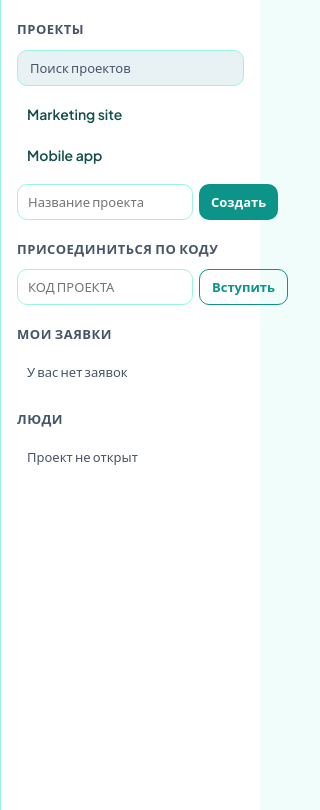
Test case: Sidebar › filters the project list by search query
Check: the link "Marketing site" is shown, box [27,104,122,122]
Type "mobile" into the search field labelled "Поиск проектов" at (130, 68), box [17,50,244,86]
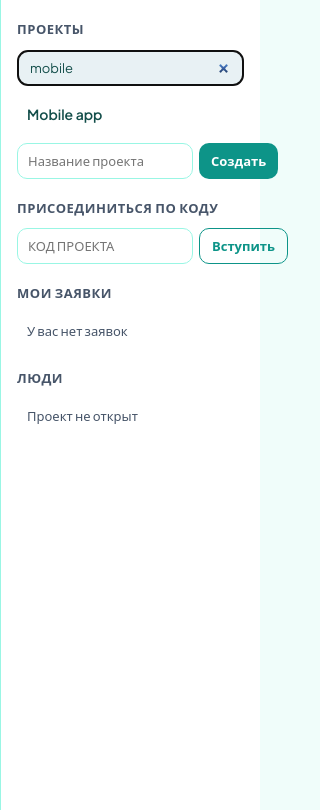
Check: the link "Mobile app" is shown, box [27,104,102,122]
Check: the link "Marketing site" is gone
